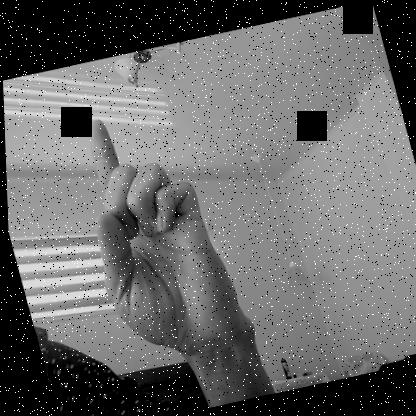D: (60, 98, 251, 369)
